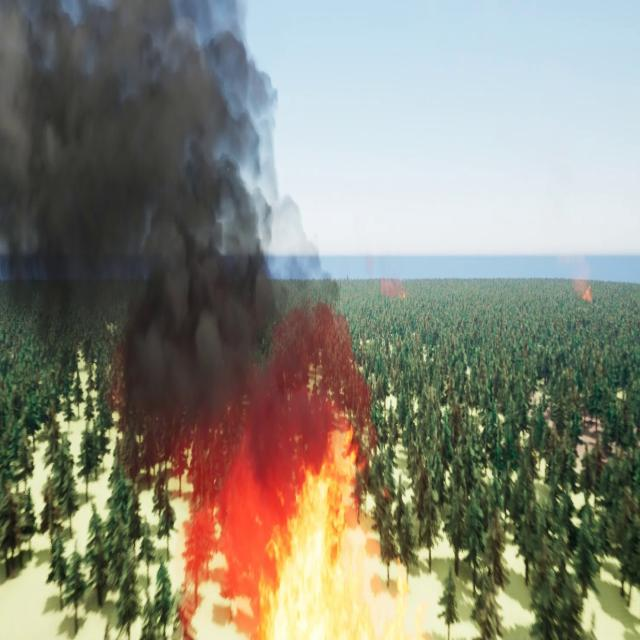fire: (202, 452, 435, 639)
smoke: (0, 0, 378, 517), (574, 267, 596, 308), (382, 273, 411, 303)
